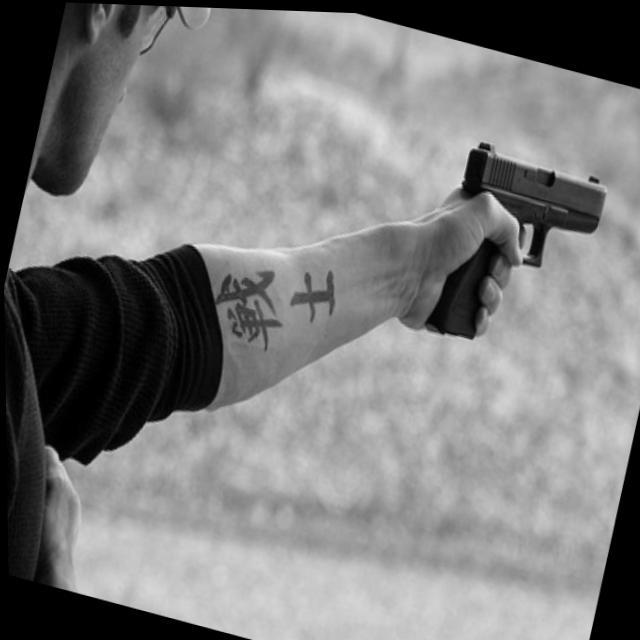weapon: (419, 128, 614, 365)
